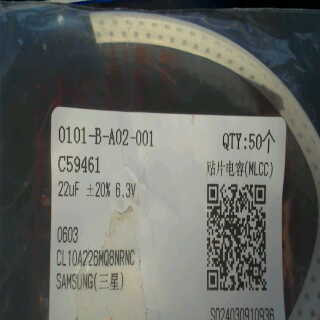22uF: (55, 178, 85, 203)
